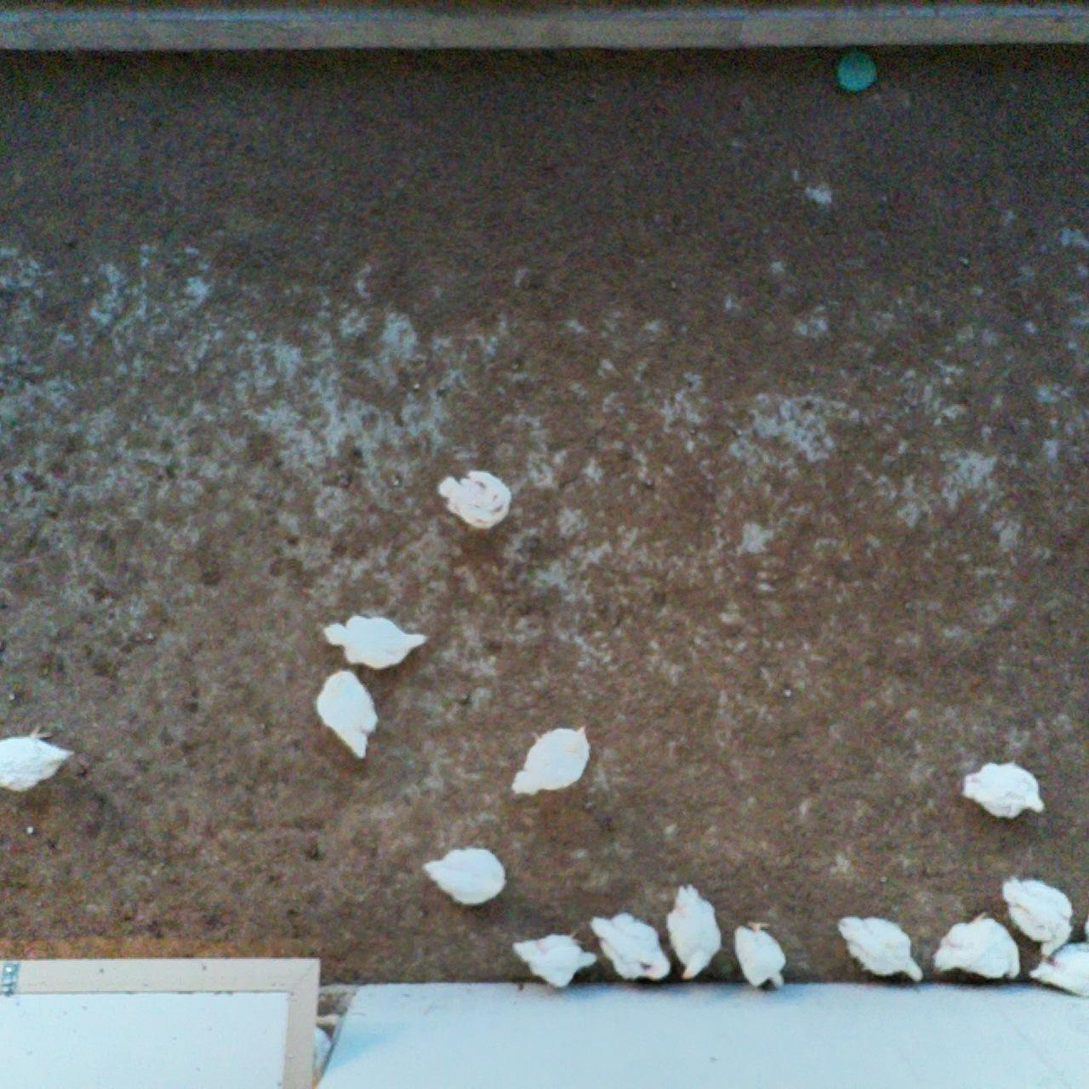chicken: (929, 908, 1023, 986), (510, 718, 594, 803), (833, 909, 924, 985), (582, 908, 669, 985), (318, 610, 429, 669), (663, 879, 725, 983), (0, 722, 79, 800), (313, 667, 379, 759), (1004, 869, 1070, 959), (423, 842, 511, 907), (960, 759, 1048, 824), (278, 1003, 345, 1084), (432, 465, 514, 531), (510, 927, 594, 991), (1025, 923, 1089, 1005), (730, 911, 790, 993)
